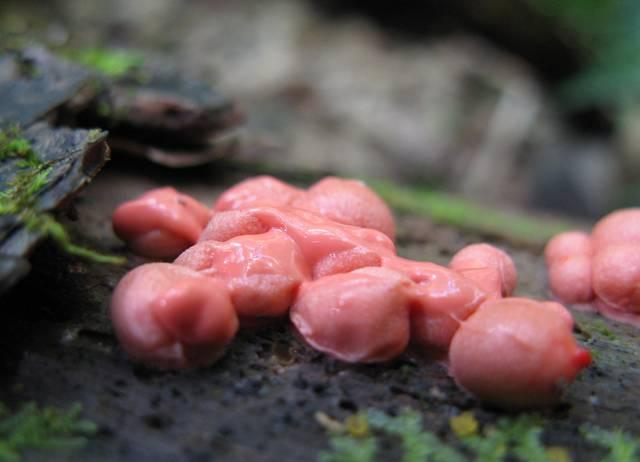Non-edible Mushroom: (108, 173, 592, 407), (446, 295, 592, 408), (109, 260, 239, 371), (288, 264, 413, 364), (110, 184, 212, 258), (447, 241, 517, 298), (543, 229, 593, 303)
